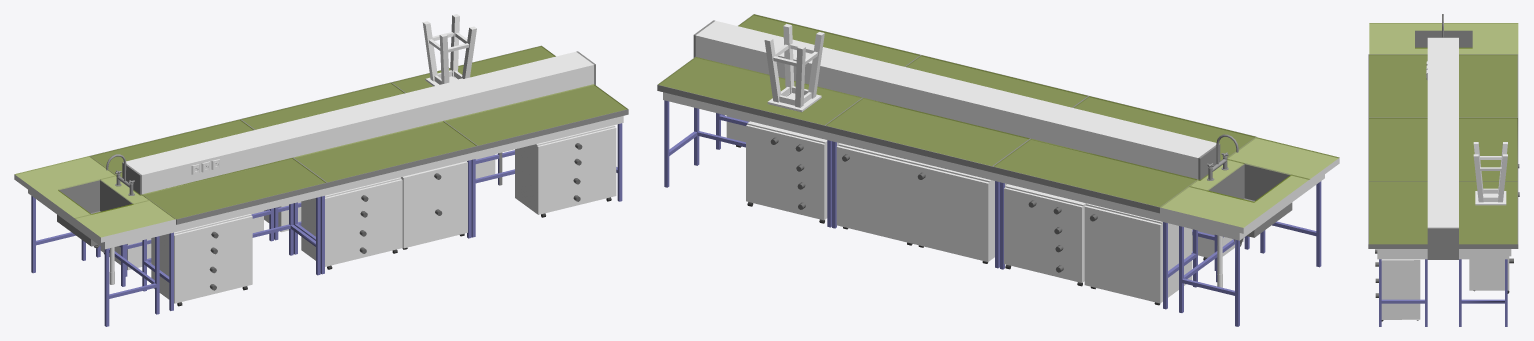
File: paillasse.fbx
3 renders of one model, left to right at view 1: azimuth 30°, elevation 25°; view 2: azimuth 150°, elevation 25°; view 3: azimuth 270°, elevation 25°, orthographic. The views are drawn at different scales.
Parts seen in each view (by area): view 1: Group_091; view 2: Group_091; view 3: Group_091.
Part boxes in pixels (x1,y1,x2,y2): Group_091: [14, 14, 628, 326]; Group_091: [657, 14, 1339, 326]; Group_091: [1368, 14, 1518, 326].
Size of the model in its own units: 530 by 148 by 152.
